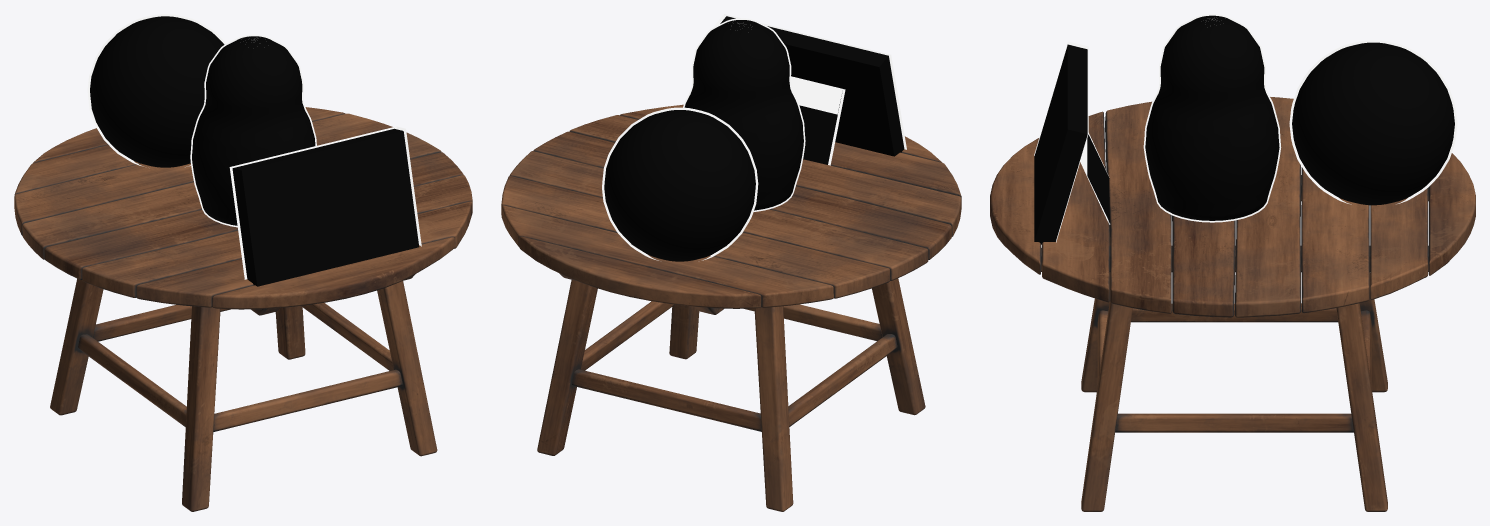
File: shad_all_outline.glb
3 views of the same model, side by side, from view 1: azimuth 30°, elevation 25°; view 2: azimuth 150°, elevation 25°; view 3: azimuth 270°, elevation 25° (orthographic). The views are drawn at different scales.
Visible parts, largest first — view 1: Table_Wood_textures.SP_0.001, Cube, Sphere.002, Circle; view 2: Table_Wood_textures.SP_0.001, Sphere.002, Circle, Cube; view 3: Table_Wood_textures.SP_0.001, Circle, Sphere.002, Cube.
Part boxes in pixels (x1=…): Table_Wood_textures.SP_0.001: x1=14, y1=107, x2=472, y2=511; Cube: x1=229, y1=126, x2=421, y2=286; Sphere.002: x1=87, y1=14, x2=226, y2=167; Circle: x1=190, y1=34, x2=316, y2=227; Table_Wood_textures.SP_0.001: x1=501, y1=104, x2=961, y2=511; Sphere.002: x1=602, y1=107, x2=758, y2=261; Circle: x1=683, y1=18, x2=805, y2=211; Cube: x1=714, y1=14, x2=906, y2=165; Table_Wood_textures.SP_0.001: x1=990, y1=97, x2=1475, y2=511; Circle: x1=1143, y1=14, x2=1281, y2=222; Sphere.002: x1=1289, y1=40, x2=1457, y2=207; Cube: x1=1034, y1=41, x2=1110, y2=247.
Size of the model in its own units: 2 by 1.92 by 1.97.
7 materials, 1 textured.
